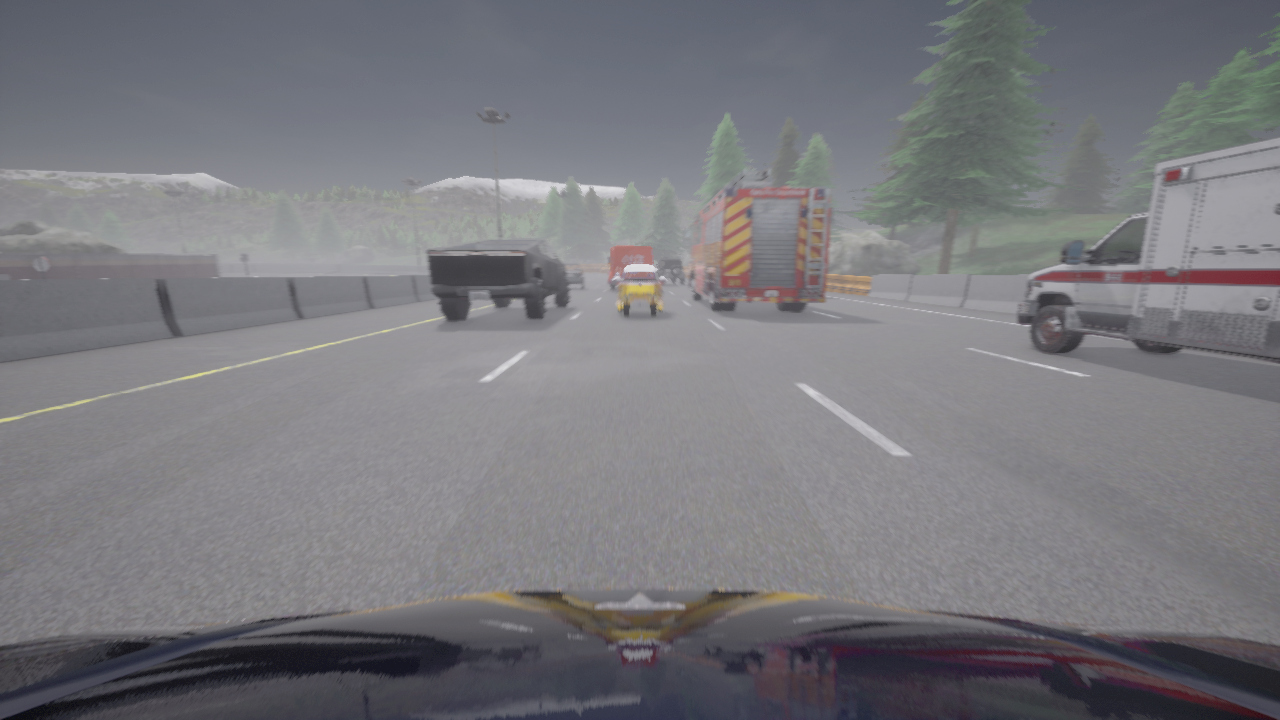cyclist: (0, 588, 1279, 719), (1018, 137, 1279, 362), (684, 170, 829, 311), (427, 239, 571, 320), (614, 265, 665, 317), (607, 247, 652, 289), (656, 258, 685, 285), (564, 263, 584, 289)
